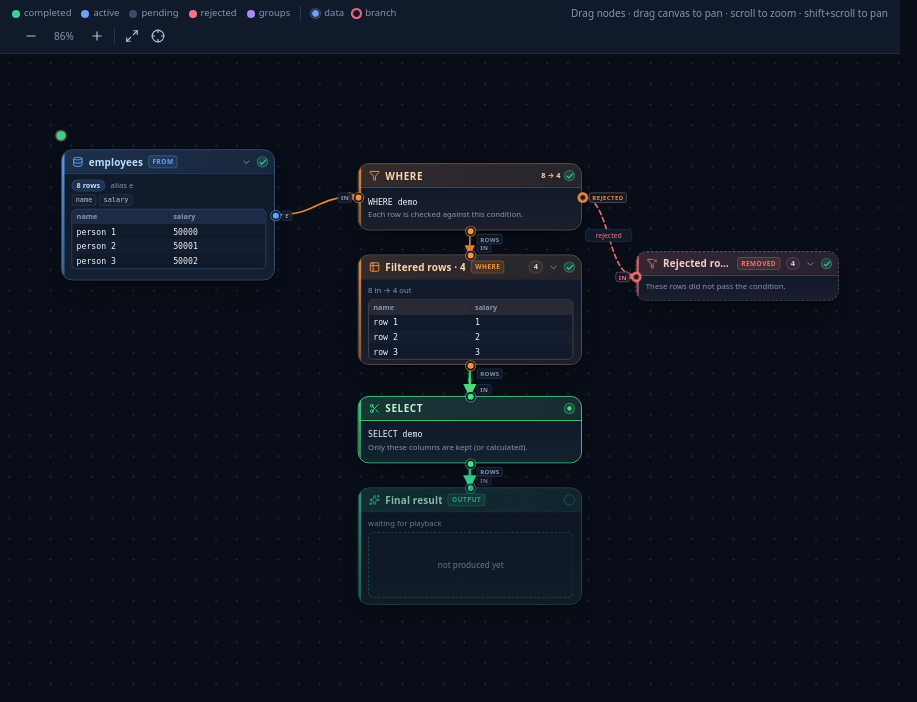
Test: FlowCanvas › expands and collapses a table preview without selecting the node
This screenshot has width=917, height=702.
What coordinates should you click on to do the following:
click the 1st button named "Expand preview"
I would click on:
 (246, 162)
Its box is left=240, top=155, right=253, bottom=169.
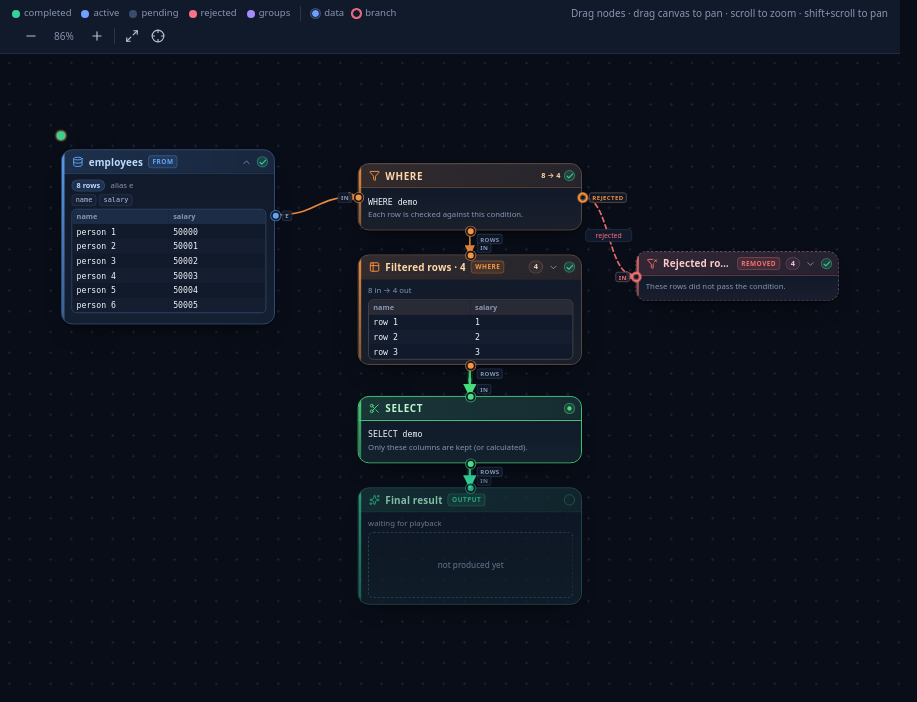
Check: the button with aria-label "Source table employees" has attribute data-expanded="true", box left=61, top=149, right=275, bottom=324
What coordinates should you click on to do the following:
click the button named "Collapse preview"
I would click on:
 (246, 162)
Its box is left=240, top=155, right=253, bottom=169.
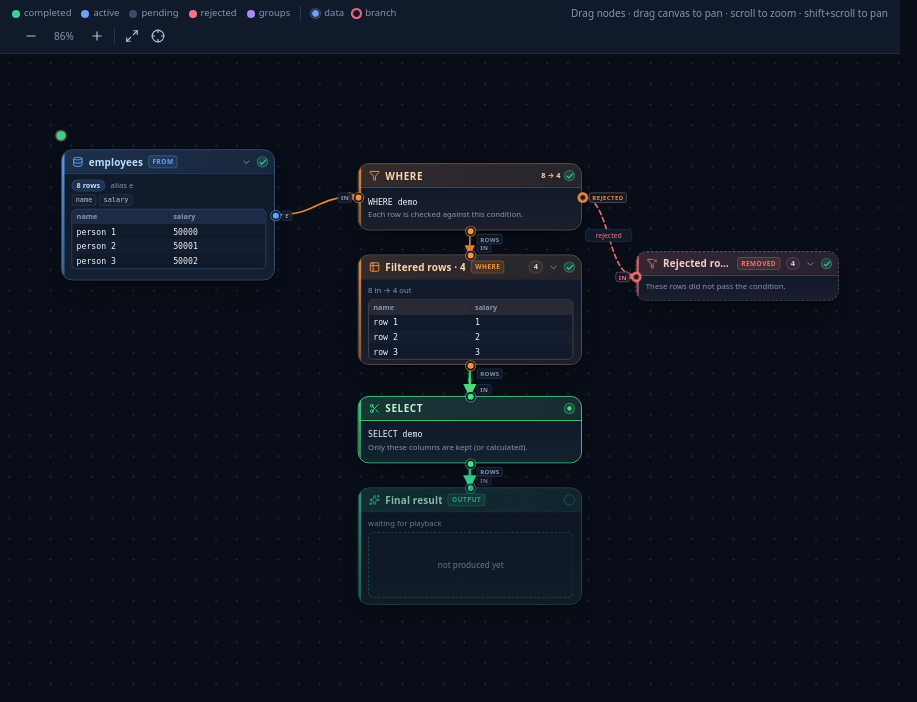
Check: the button with aria-label "Source table employees" does not have attribute data-expanded, box left=61, top=149, right=275, bottom=280
